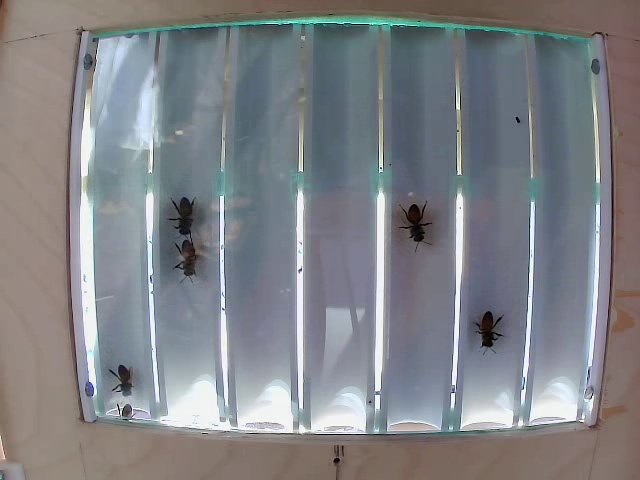bee: (403, 187, 445, 261), (168, 231, 220, 276), (169, 177, 219, 222), (470, 302, 513, 352), (105, 358, 152, 400)
